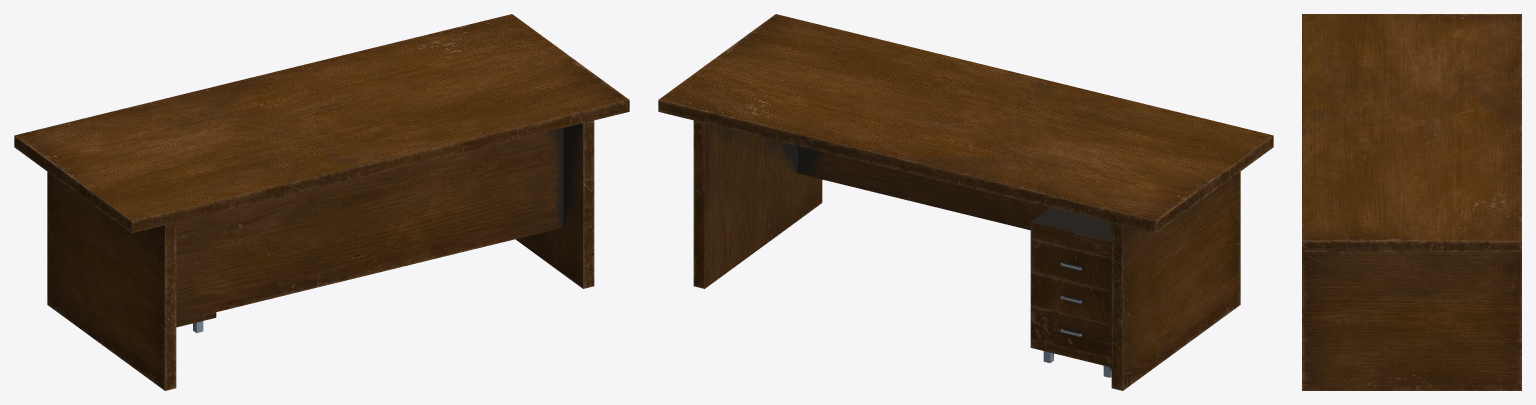
Rendered from office_desk_.glb.
3 views of the same model, side by side, from view 1: azimuth 30°, elevation 25°; view 2: azimuth 150°, elevation 25°; view 3: azimuth 270°, elevation 25° (orthographic). The views are drawn at different scales.
Parts seen in each view (by area): view 1: scene_2__0; view 2: scene_2__0; view 3: scene_2__0.
Boxes of the visible parts, left/top/right/bottom form: scene_2__0: left=14, top=14, right=629, bottom=390; scene_2__0: left=658, top=14, right=1273, bottom=390; scene_2__0: left=1302, top=14, right=1521, bottom=390.
Size of the model in its own units: 5.49 by 1.89 by 2.25.
1 material, 1 textured.
